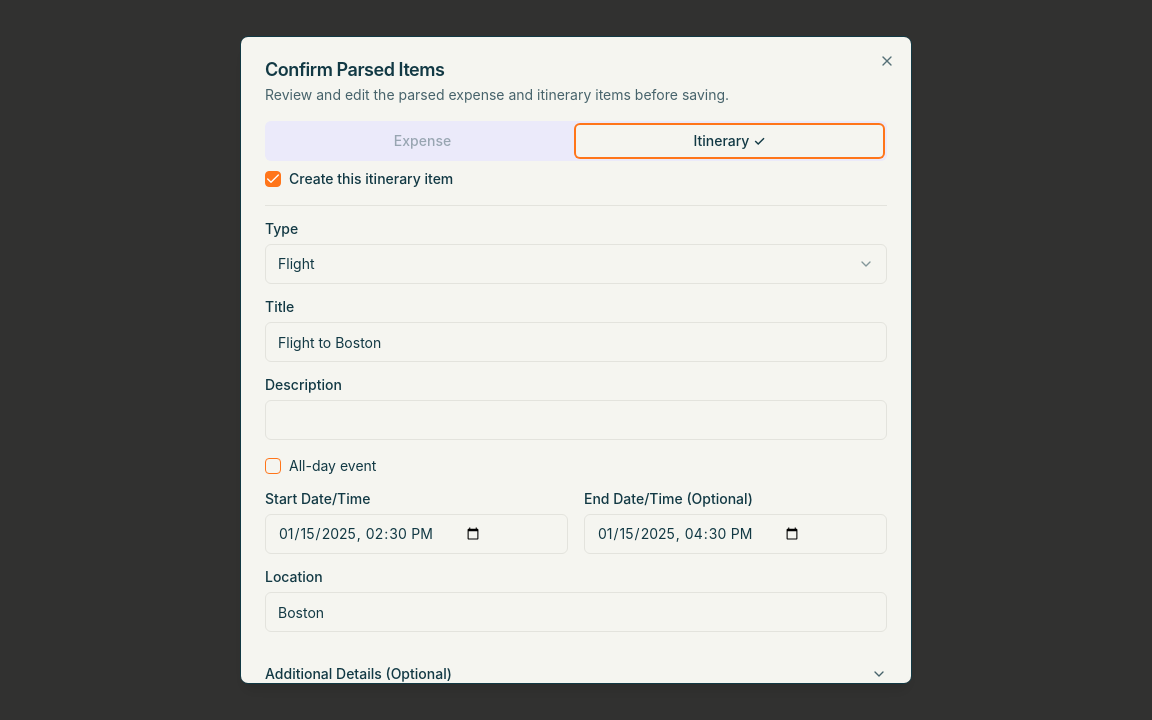
Test case: ParsedItemModal - Itinerary Metadata › Notes Field › disables textarea when create checkbox is unchecked
The image size is (1152, 720).
Click the button "Additional Details (Optional)".
click(358, 674)  # box [265,648,887,700]
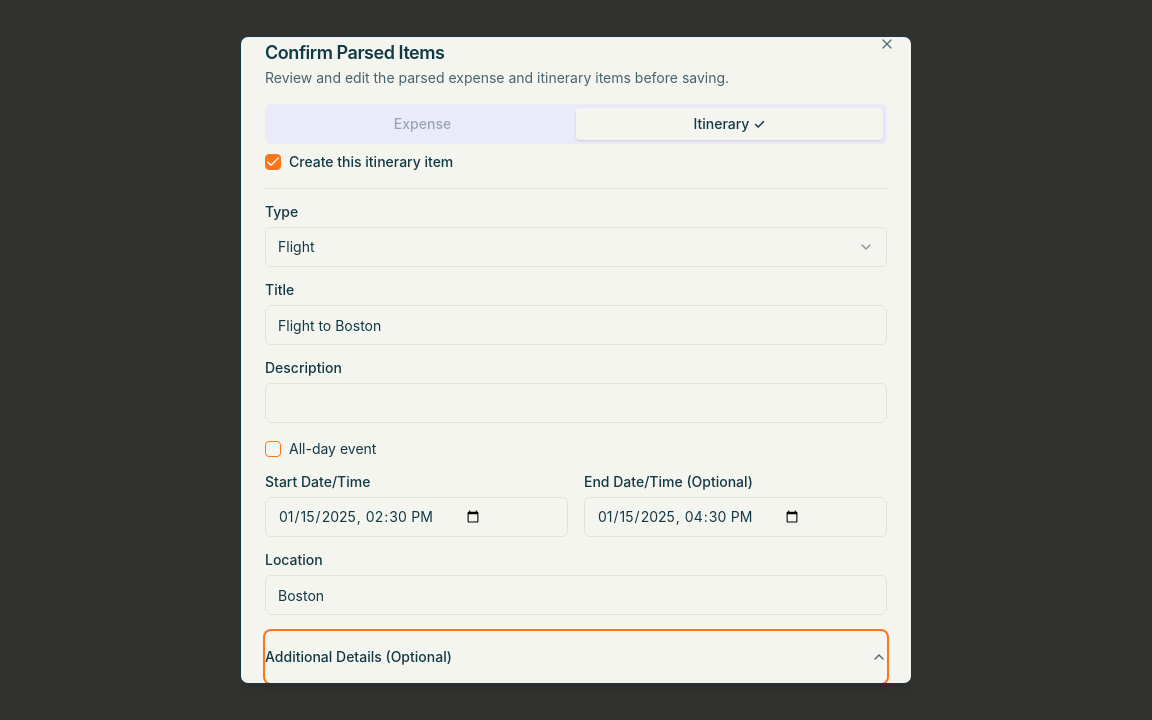
Click the checkbox named "create this itinerary item" next to "Create this itinerary item".
click(273, 162)  # box [265,154,281,170]
(page scrolled)
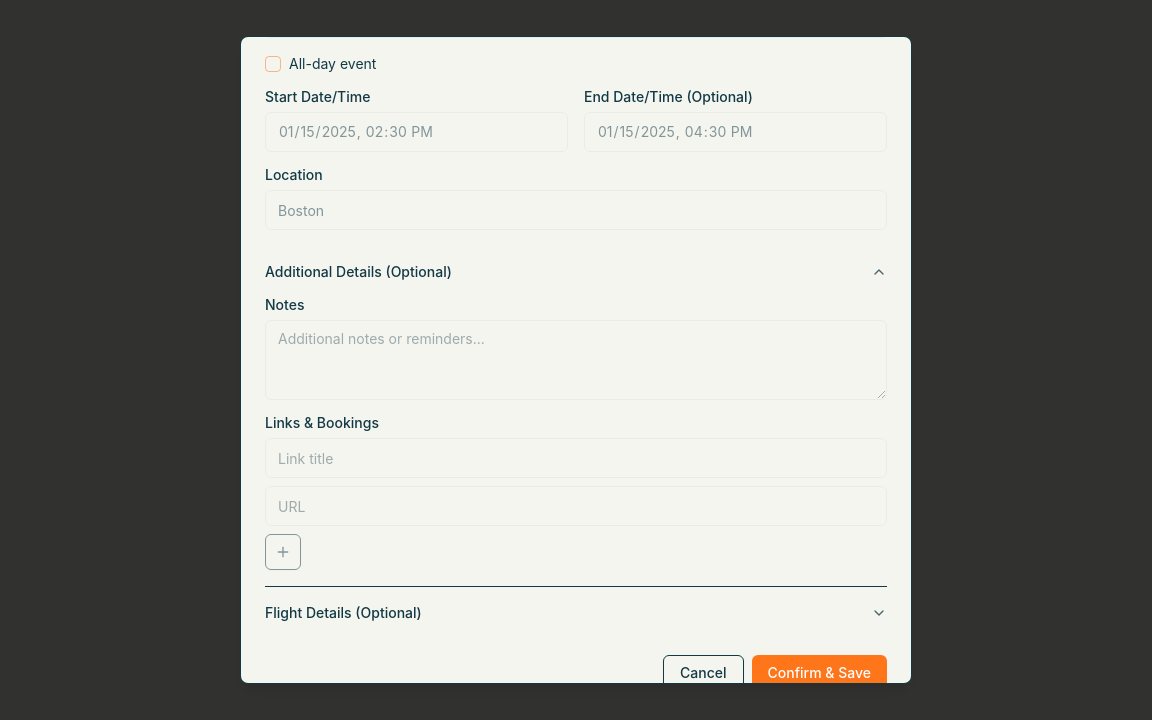
Expected: the text box with placeholder "Additional notes or reminders..." is disabled, [265,320,887,400]
